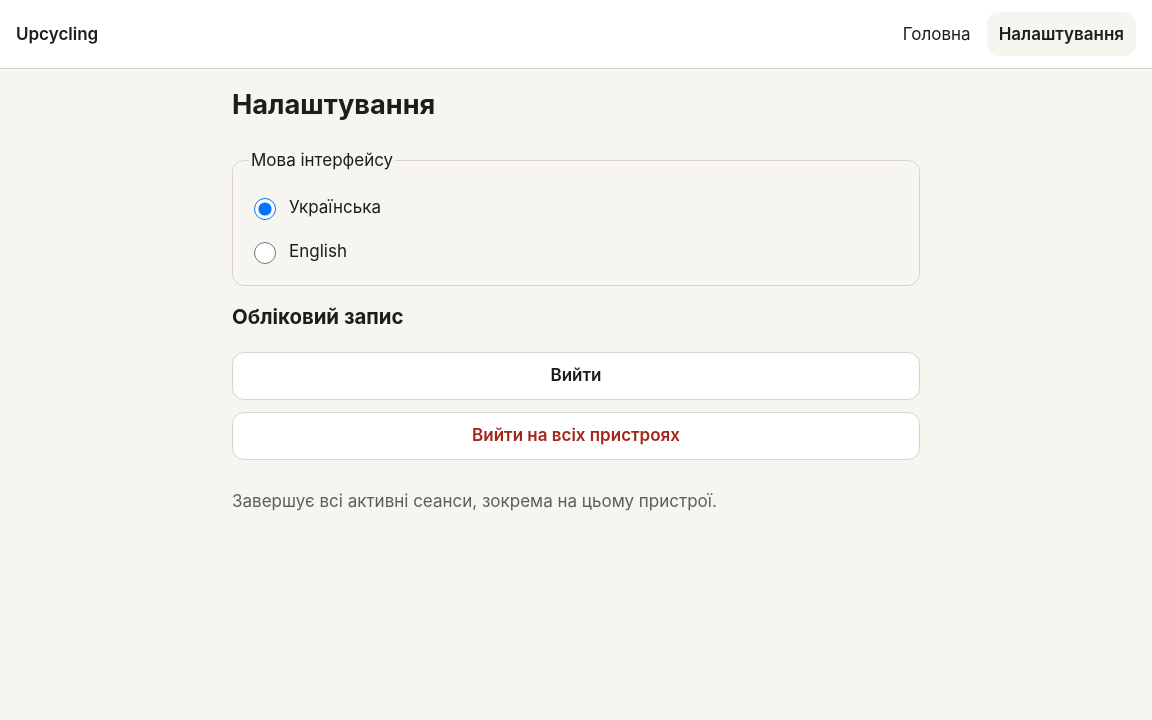
Scenario: language preference › persists the choice server-side when signed in
Click the radio button labelled "English".
click(265, 253)  # box [254, 242, 276, 264]
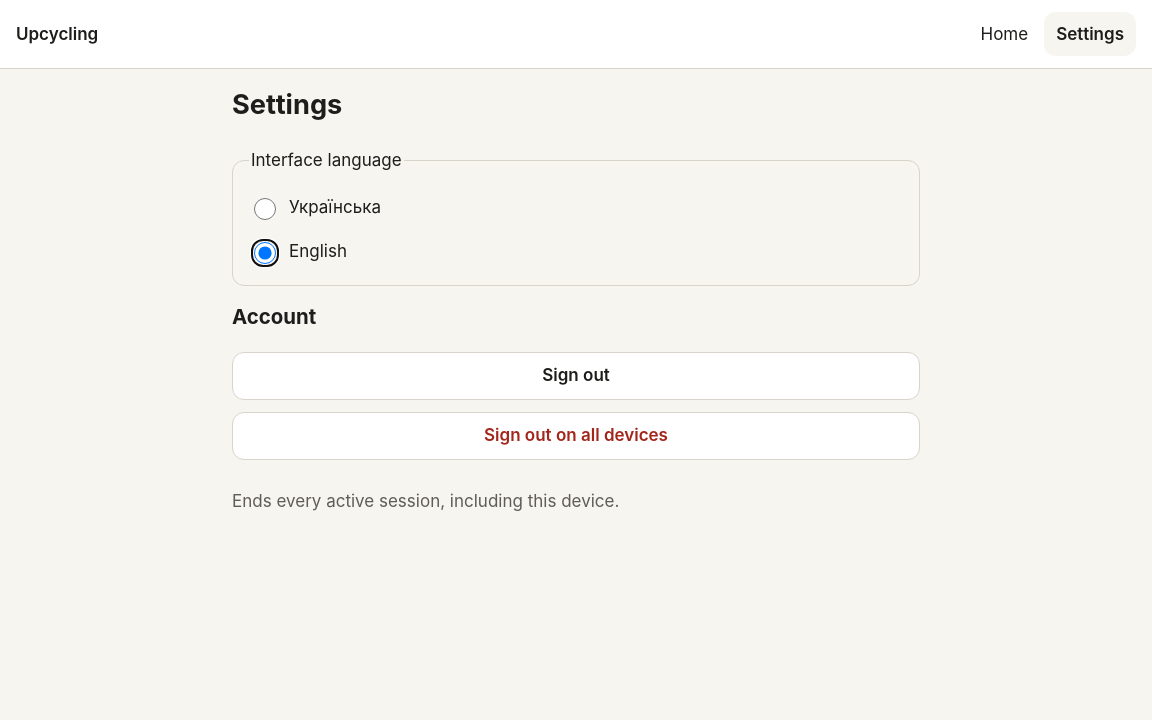
Expected: the heading "Settings" is shown, [232, 88, 342, 121]
